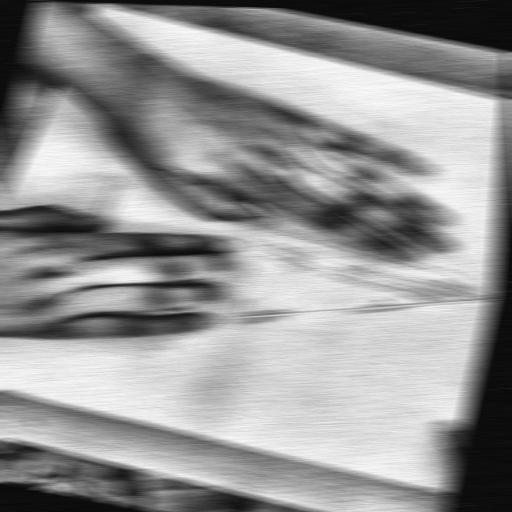boat: (37, 57, 512, 428)
bottom_right: (86, 3, 109, 7)
